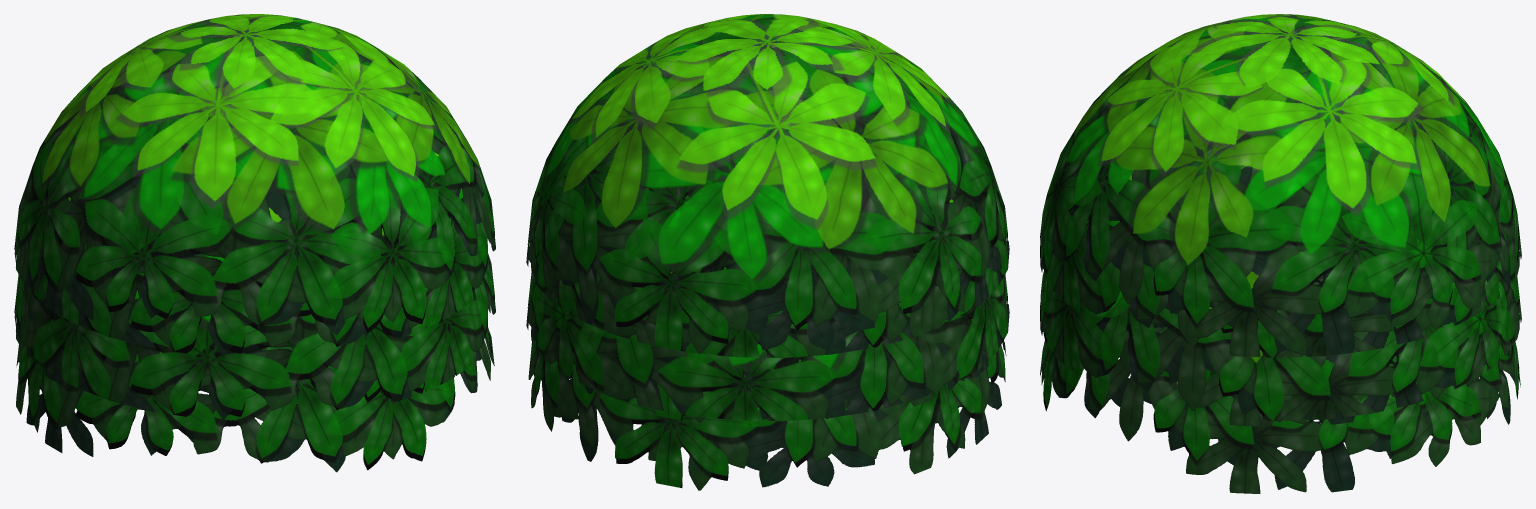
The model's file is Bush Alexander.fbx.
The picture shows the model from 3 angles, left to right: view 1: azimuth 30°, elevation 25°; view 2: azimuth 150°, elevation 25°; view 3: azimuth 270°, elevation 25°; orthographic projection.
Visible parts, largest first — view 1: Sphere.002, Sphere.004, Sphere.005, Sphere.001, Sphere.003; view 2: Sphere.002, Sphere.004, Sphere.005, Sphere.001, Sphere.003; view 3: Sphere.002, Sphere.004, Sphere.005, Sphere.001, Sphere.003.
Boxes of the visible parts, left/top/right/bottom form: Sphere.002: left=16, top=14, right=494, bottom=335; Sphere.004: left=14, top=253, right=495, bottom=419; Sphere.005: left=16, top=327, right=494, bottom=472; Sphere.001: left=14, top=75, right=495, bottom=356; Sphere.003: left=16, top=279, right=490, bottom=402; Sphere.002: left=528, top=14, right=1006, bottom=353; Sphere.004: left=526, top=271, right=1009, bottom=421; Sphere.005: left=528, top=339, right=1006, bottom=490; Sphere.001: left=526, top=143, right=1009, bottom=357; Sphere.003: left=529, top=271, right=1004, bottom=422; Sphere.002: left=1040, top=14, right=1518, bottom=357; Sphere.004: left=1040, top=270, right=1521, bottom=421; Sphere.005: left=1040, top=341, right=1520, bottom=493; Sphere.001: left=1040, top=115, right=1521, bottom=357; Sphere.003: left=1040, top=298, right=1513, bottom=426.
Size of the model in its own units: 200 by 162 by 200.
